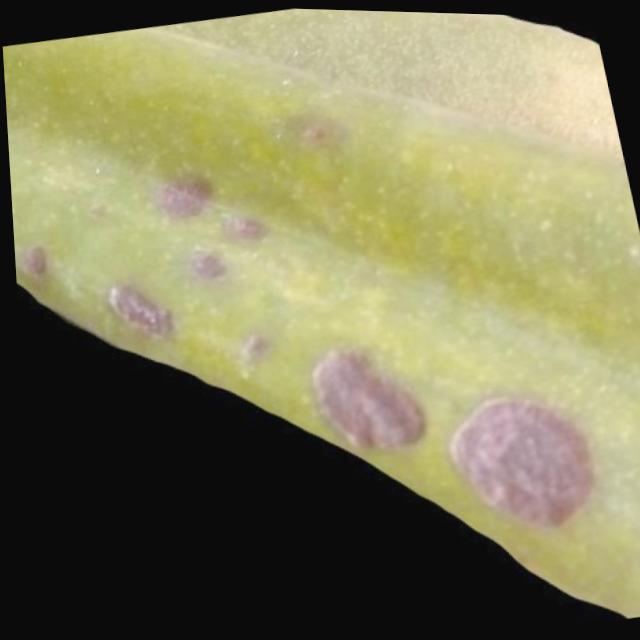mite: (76, 122, 609, 583), (299, 311, 607, 557), (79, 160, 289, 347), (149, 163, 278, 292), (100, 278, 177, 344), (175, 238, 237, 294), (153, 174, 218, 223), (220, 212, 270, 247), (184, 246, 229, 284), (232, 331, 271, 365), (16, 245, 51, 281)
spots: (2, 7, 640, 640)
sunburn: (432, 381, 604, 541), (296, 334, 431, 462)
